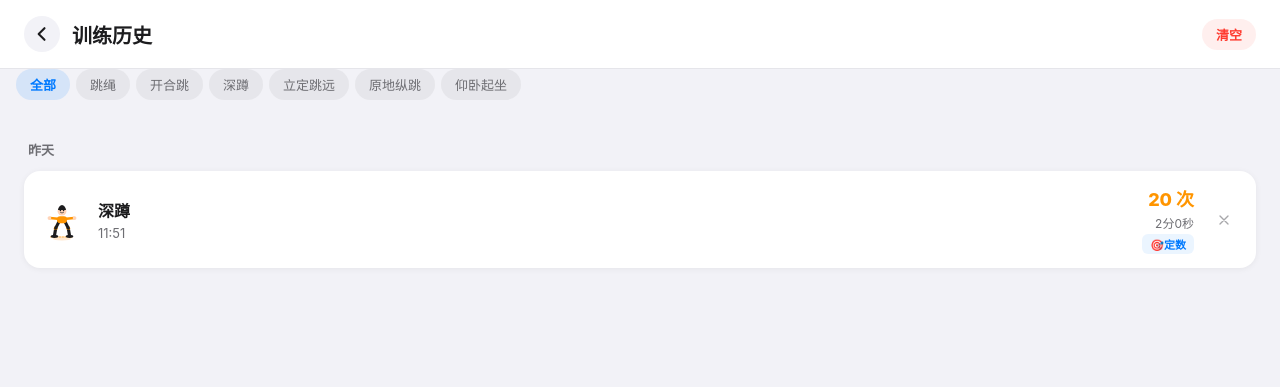
HistoryPage › delete workflow › removes the deleted item from the list
Expected: the text "20 次" is shown, x1=1148 y1=185 x2=1194 y2=211
Click the button named "删除记录".
click(1224, 220)  # box x1=1208 y1=204 x2=1240 y2=236
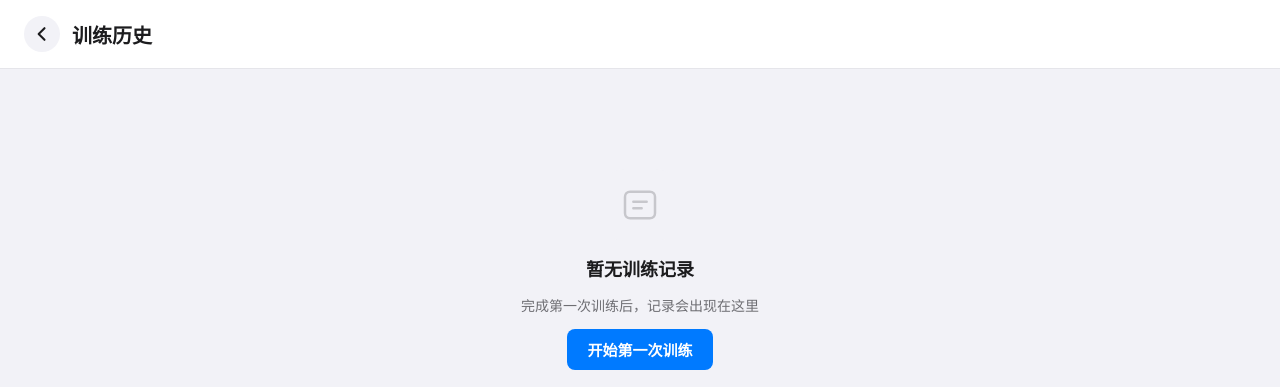
Now the button "20 次" is gone
